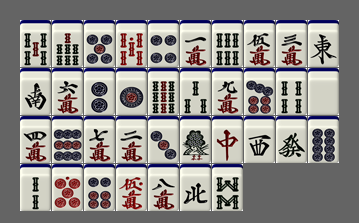0m: (116, 164, 147, 211)
0p: (52, 164, 83, 211)
0s: (116, 20, 147, 67)
1m: (180, 20, 211, 67)
1p: (116, 68, 147, 115)
1s: (180, 116, 211, 163)
1z: (308, 20, 339, 67)
2m: (116, 116, 147, 163)
2p: (84, 68, 115, 115)
2s: (20, 164, 51, 211)
2z: (20, 68, 51, 115)
3m: (276, 20, 307, 67)
3p: (148, 116, 179, 163)
3s: (180, 68, 211, 115)
3z: (244, 116, 275, 163)
4m: (20, 116, 51, 163)
4p: (148, 20, 179, 67)
4s: (276, 68, 307, 115)
4z: (180, 164, 211, 211)
5m: (244, 20, 275, 67)
5p: (84, 20, 115, 67)
5s: (20, 20, 51, 67)
5z: (308, 68, 339, 115)
6m: (52, 68, 83, 115)
6p: (84, 164, 115, 211)
6s: (212, 20, 243, 67)
6z: (276, 116, 307, 163)
7m: (84, 116, 115, 163)
7p: (244, 68, 275, 115)
7s: (52, 20, 83, 67)
7z: (212, 116, 243, 163)
8m: (148, 164, 179, 211)
8p: (308, 116, 339, 163)
8s: (212, 164, 243, 211)
9m: (212, 68, 243, 115)
9p: (52, 116, 83, 163)
9s: (148, 68, 179, 115)
